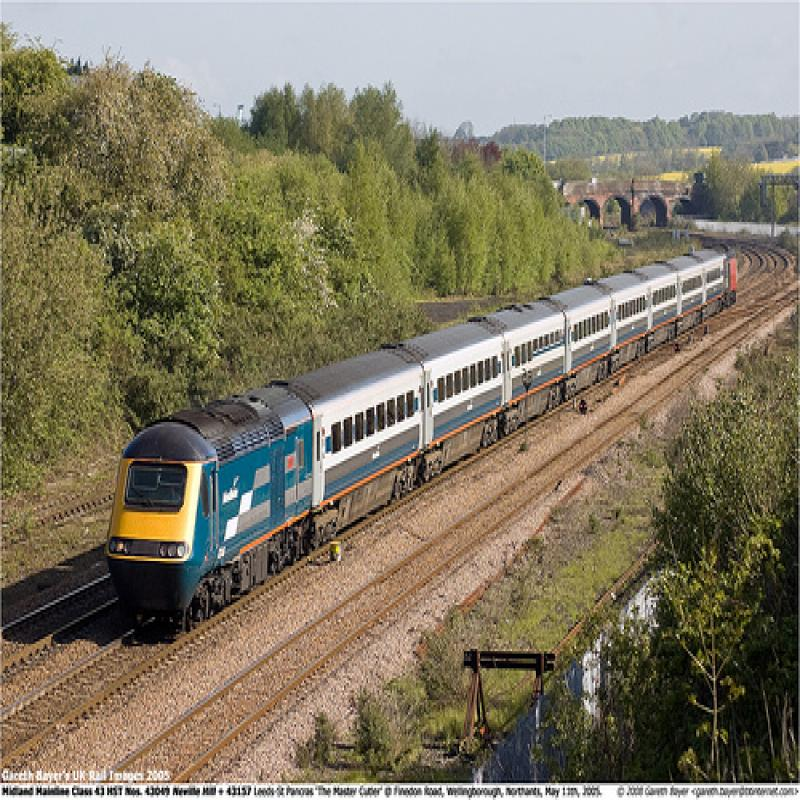train: (105, 245, 735, 637)
